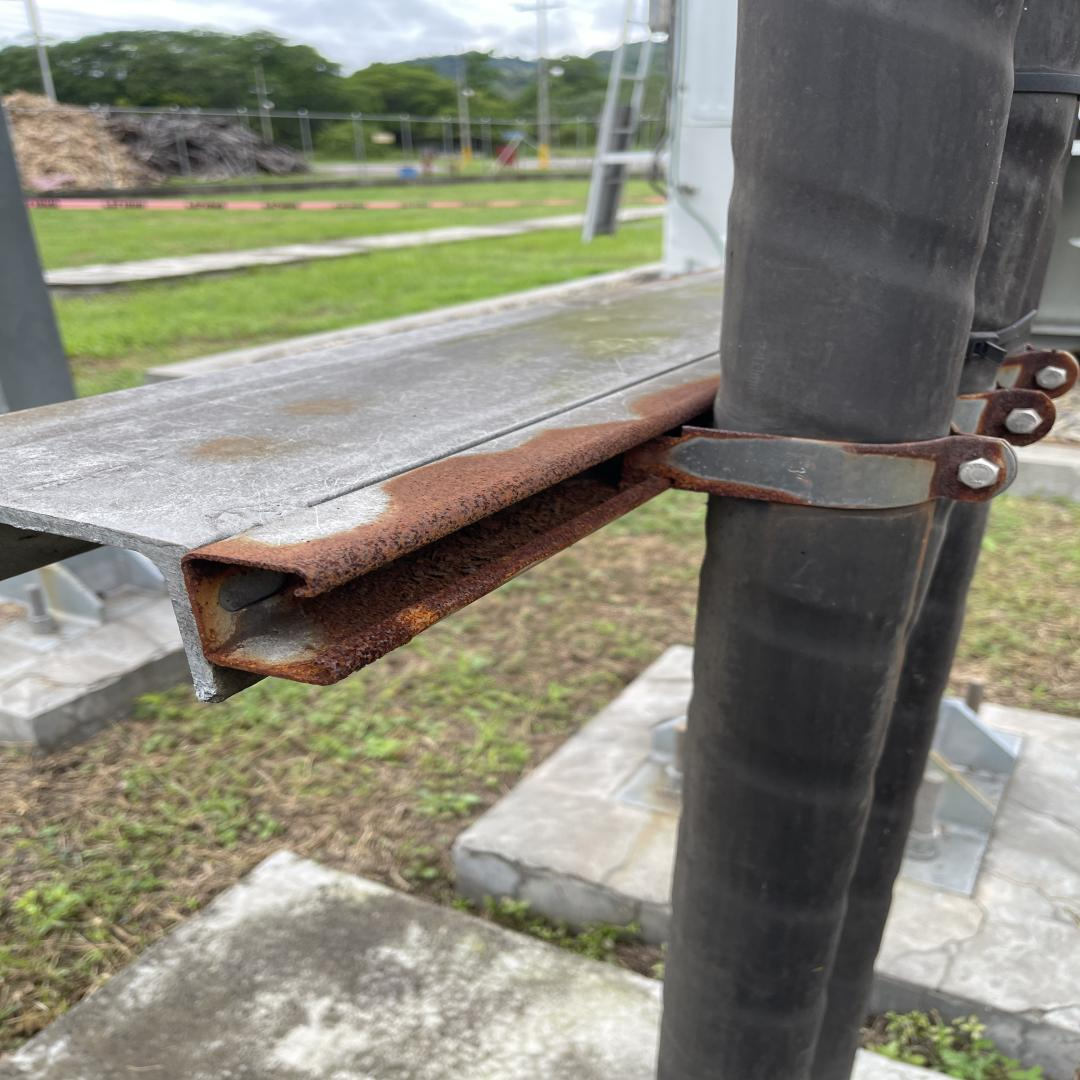Metal: (0, 264, 725, 566)
Metal corroido: (182, 371, 800, 686), (836, 423, 1008, 504), (953, 343, 1080, 446)
Tornillo sin corrosion: (956, 457, 1000, 488), (1005, 410, 1044, 433), (1035, 367, 1066, 391)
